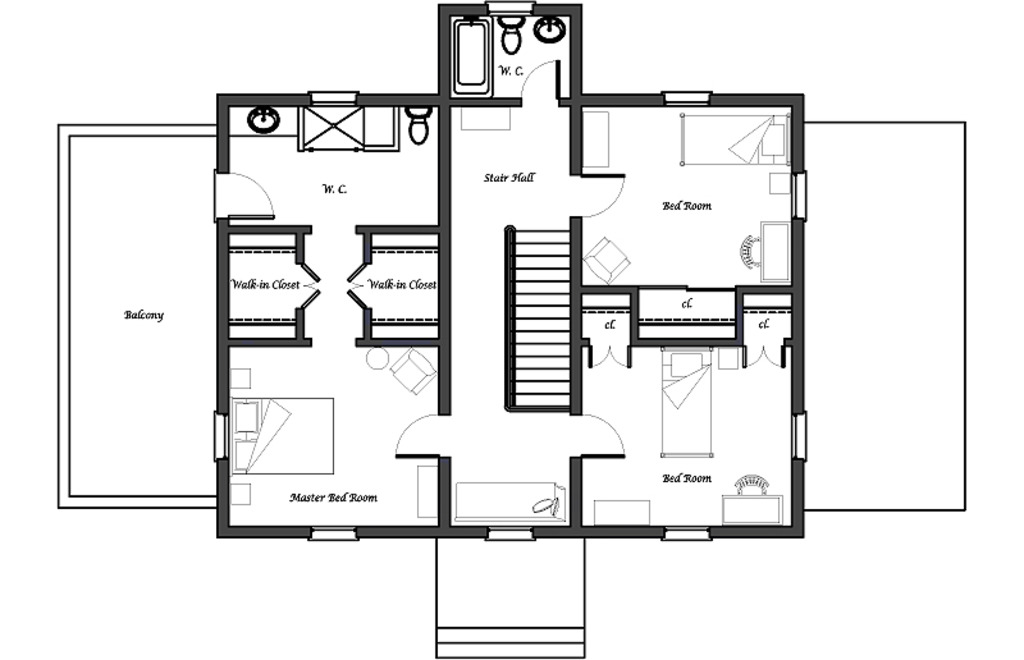bed: (225, 395, 336, 479), (655, 347, 718, 459), (676, 111, 789, 172)
door: (211, 166, 279, 230), (568, 411, 625, 464), (572, 171, 625, 219), (517, 60, 562, 111), (394, 415, 440, 460), (586, 340, 634, 373), (739, 341, 786, 371)
large_sink: (492, 10, 532, 56), (398, 106, 437, 150)
small_sink: (229, 105, 299, 139), (530, 11, 565, 43)
small_sofa: (390, 345, 438, 394)
stairs: (502, 223, 576, 415)
tub: (448, 13, 499, 101)
windows: (302, 520, 360, 545), (656, 87, 716, 109), (304, 86, 362, 108), (662, 523, 714, 547), (789, 408, 810, 467), (479, 525, 539, 544), (789, 169, 809, 219)
